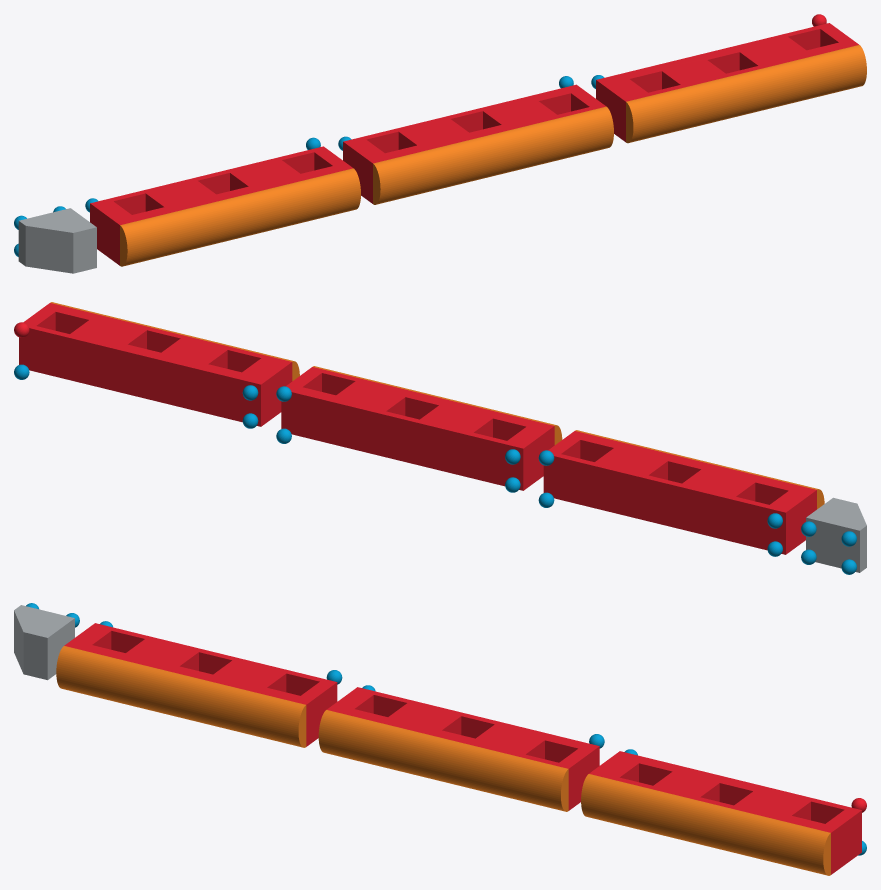
File: tinker.obj
3 renders of one model, top to bottom at view 1: azimuth 30°, elevation 25°; view 2: azimuth 150°, elevation 25°; view 3: azimuth 330°, elevation 25°, orthographic. The views are drawn at different scales.
Visible parts, largest first — view 1: group_0_16089887, group_0_15277357, group_0_10988977, group_0_40919; view 2: group_0_15277357, group_0_10988977, group_0_40919, group_0_16089887; view 3: group_0_16089887, group_0_15277357, group_0_10988977, group_0_40919.
Boxes of the visible parts, <box> form: group_0_16089887: <box>120,45,866,266</box>; group_0_15277357: <box>90,14,858,265</box>; group_0_10988977: <box>18,208,96,273</box>; group_0_40919: <box>14,75,604,256</box>; group_0_15277357: <box>14,303,816,554</box>; group_0_10988977: <box>806,497,866,572</box>; group_0_40919: <box>14,364,856,574</box>; group_0_16089887: <box>50,302,824,509</box>; group_0_16089887: <box>56,646,830,875</box>; group_0_15277357: <box>64,623,866,874</box>; group_0_10988977: <box>14,605,74,680</box>; group_0_40919: <box>26,603,866,855</box>.
Size of the model in its own units: 125 by 8 by 12.
